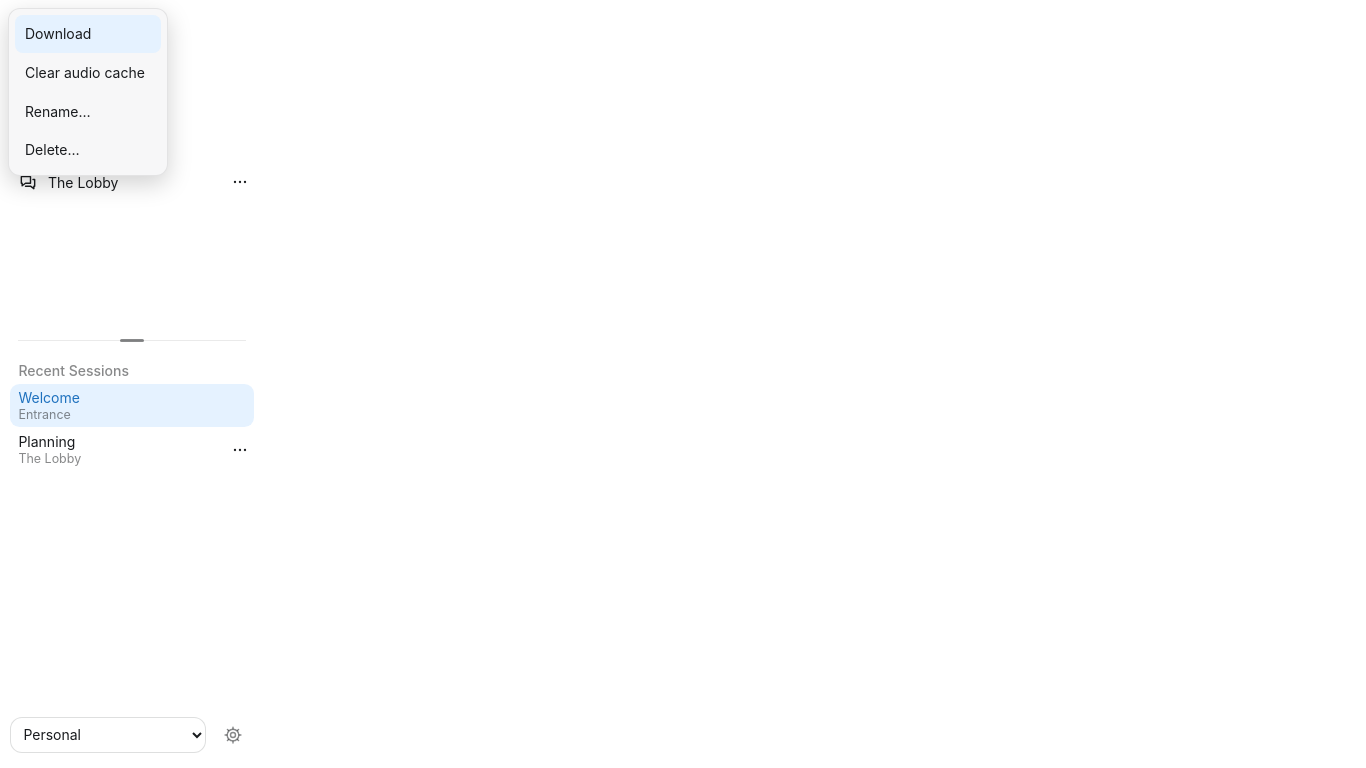
it: Sidebar session actions › offers Download, Clear audio cache, Rename, and Delete in order by right-click and ellipsis but not for Welcome
Step 1. Press Escape
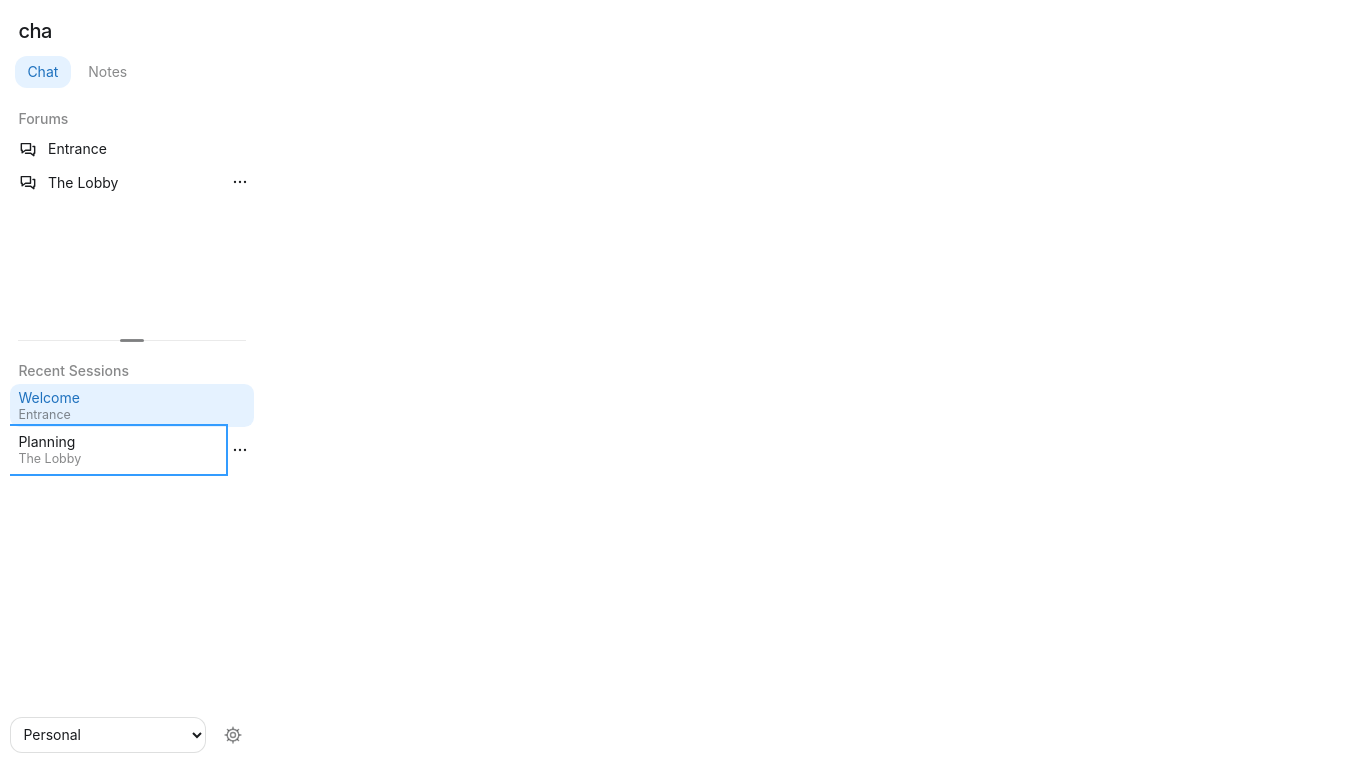
Step 2. Click the button named "Actions for Planning" → (239, 450), box [224, 435, 254, 465]
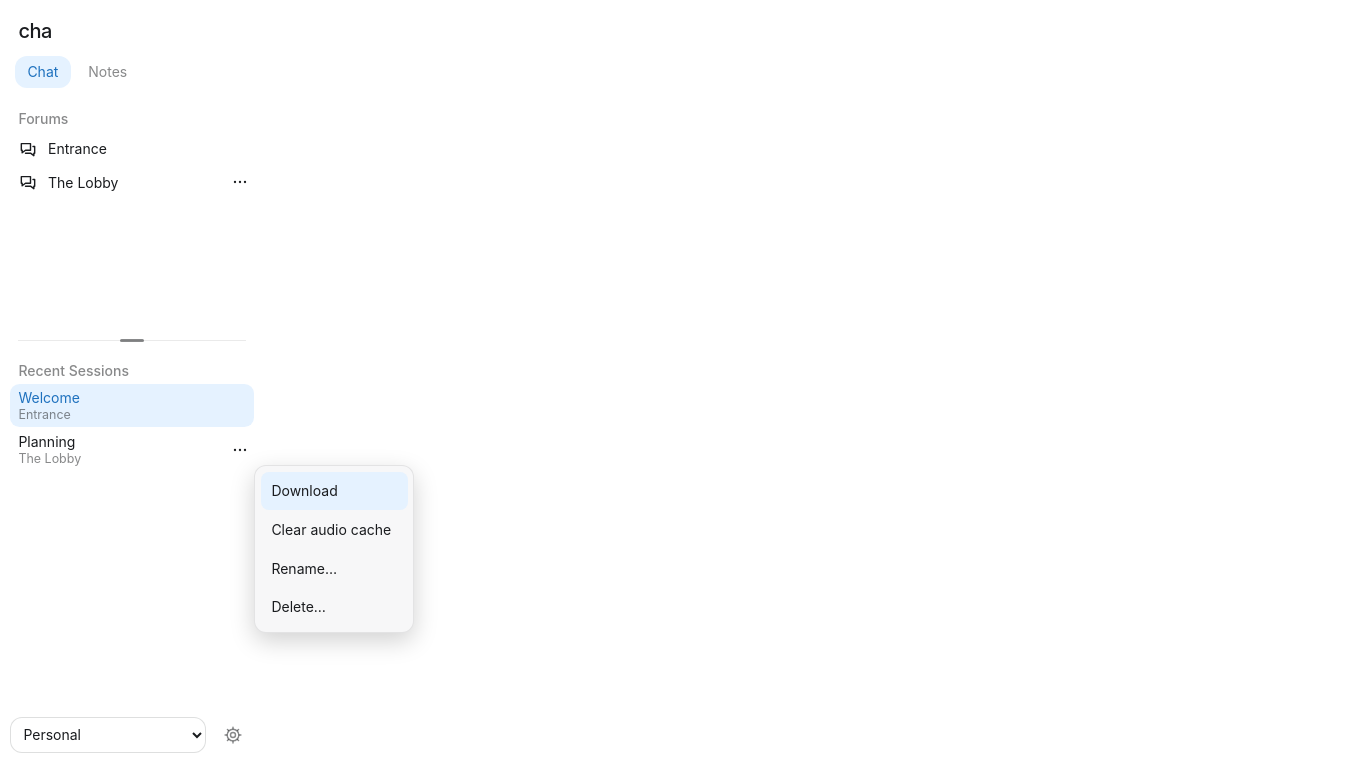
Step 3. Click the menu item "Rename…" → (334, 568), box [261, 549, 408, 588]
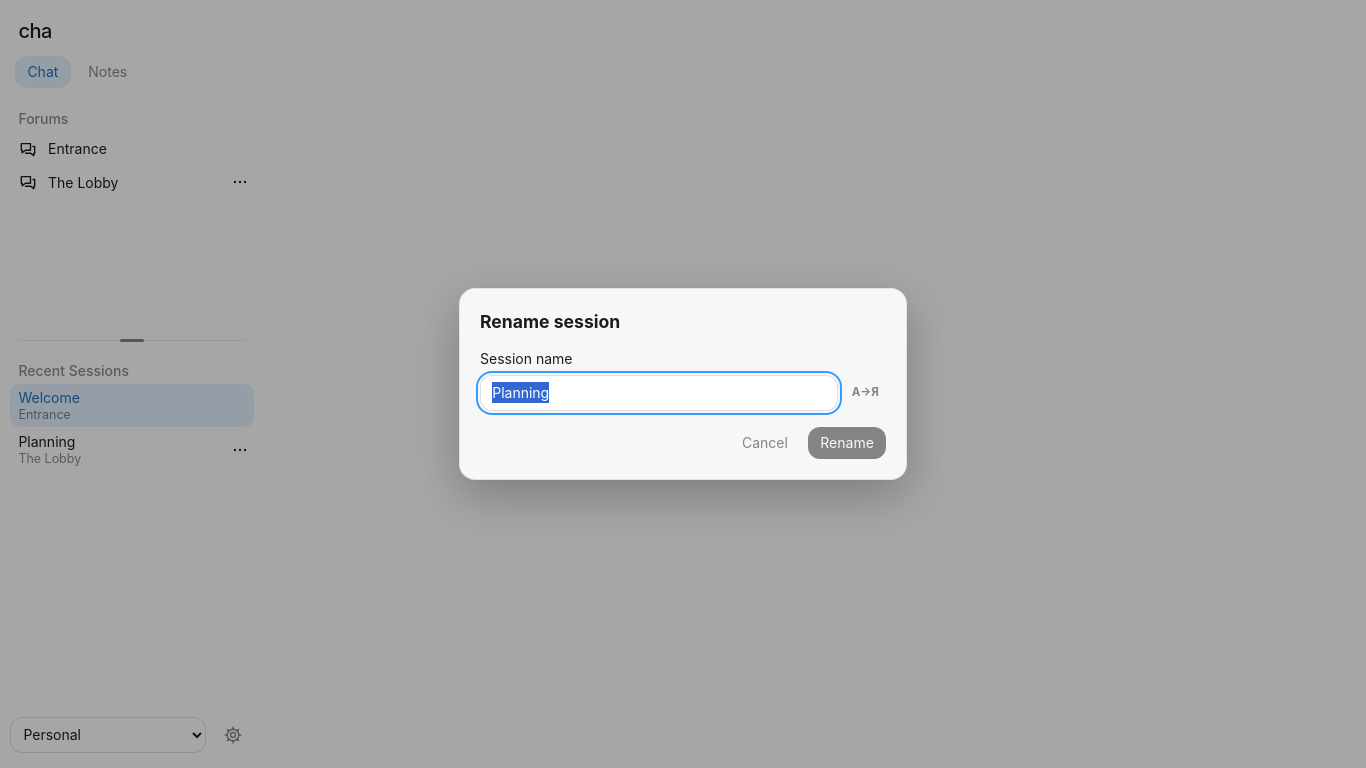
Expected: the heading "Rename session" is shown, [480, 311, 620, 332]
Expected: the field labelled "Session name" holds "Planning", [480, 375, 838, 411]
